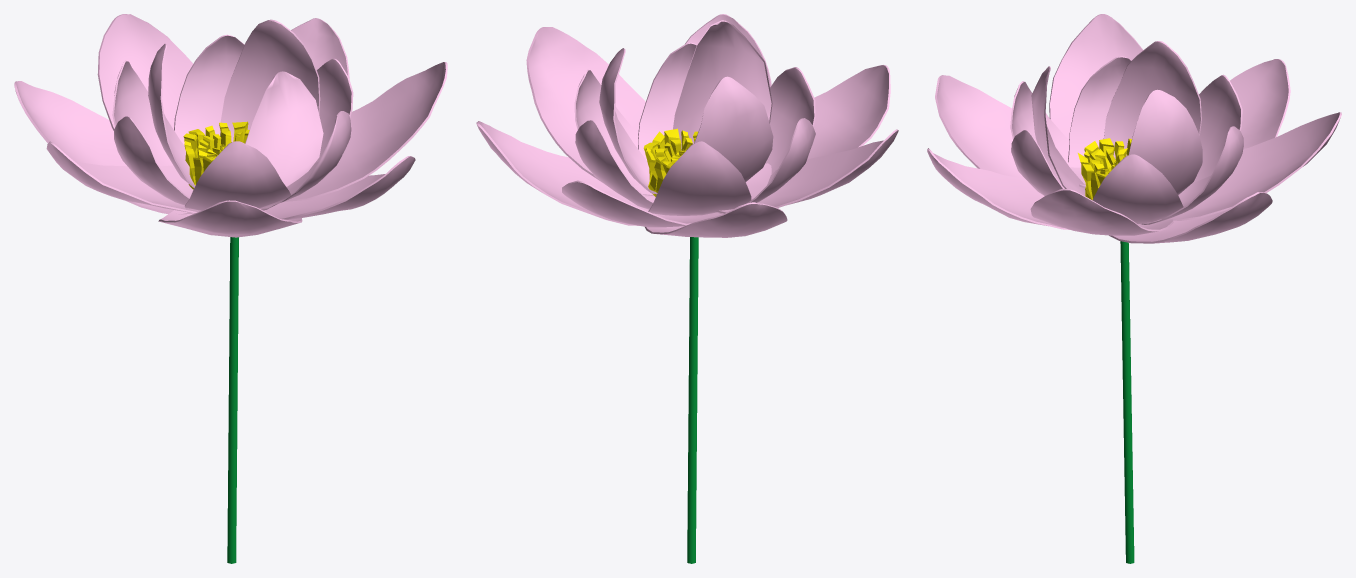
The model's file is LotusA.fbx.
The picture shows the model from 3 angles, left to right: view 1: azimuth 30°, elevation 25°; view 2: azimuth 150°, elevation 25°; view 3: azimuth 270°, elevation 25°; orthographic projection. The views are drawn at different scales.
Parts seen in each view (by area): view 1: LotusA, root; view 2: LotusA, root; view 3: LotusA, root.
Part boxes in pixels (x1,y1,x2,y2): LotusA: (14,14,447,237); root: (227,237,238,563); LotusA: (476,14,898,237); root: (687,237,698,563); LotusA: (927,14,1341,243); root: (1120,241,1134,563).
Bounding box in the file's own units: 6.88 × 8.98 × 6.78.
